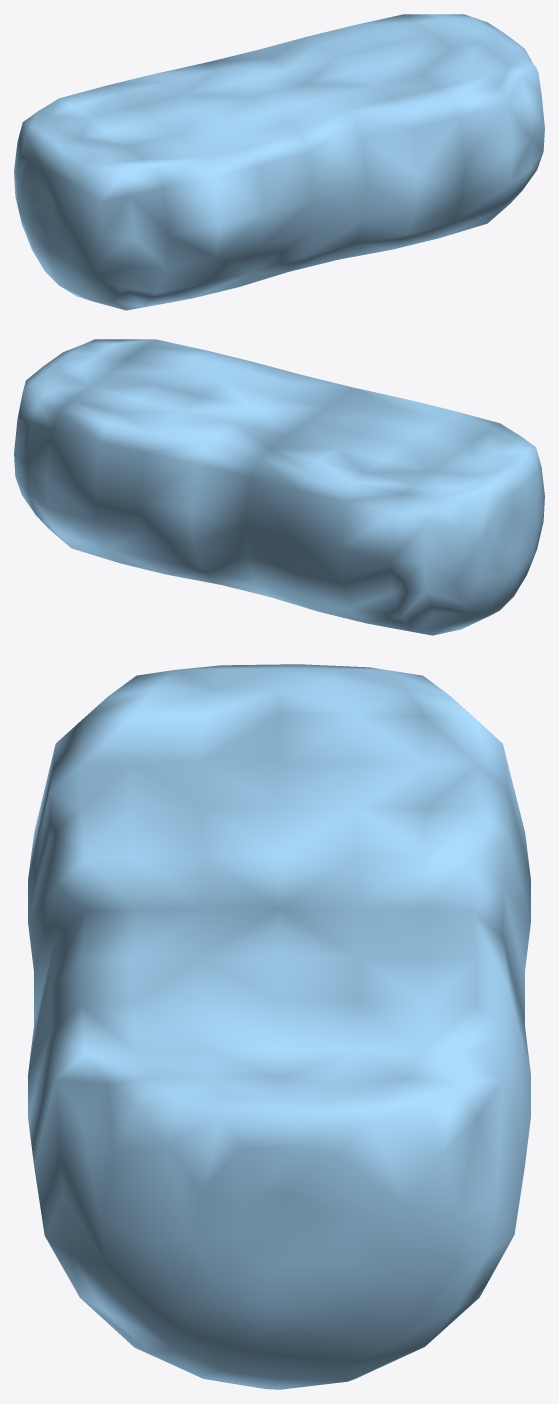
Rendered from p_mesh_oreprospector_watertank_waterblendshape_pose1.fbx.
3 renders of one model, top to bottom at view 1: azimuth 30°, elevation 25°; view 2: azimuth 150°, elevation 25°; view 3: azimuth 270°, elevation 25°, orthographic. The views are drawn at different scales.
Parts seen in each view (by area): view 1: obj_interactive_oreprospector_fillingup_pose2.003; view 2: obj_interactive_oreprospector_fillingup_pose2.003; view 3: obj_interactive_oreprospector_fillingup_pose2.003.
Boxes of the visible parts, bbox=[...] form: obj_interactive_oreprospector_fillingup_pose2.003: bbox=[14, 14, 544, 310]; obj_interactive_oreprospector_fillingup_pose2.003: bbox=[14, 339, 544, 635]; obj_interactive_oreprospector_fillingup_pose2.003: bbox=[28, 664, 530, 1389].
Bounding box in the file's own units: 8.62 × 3.01 × 3.97.
